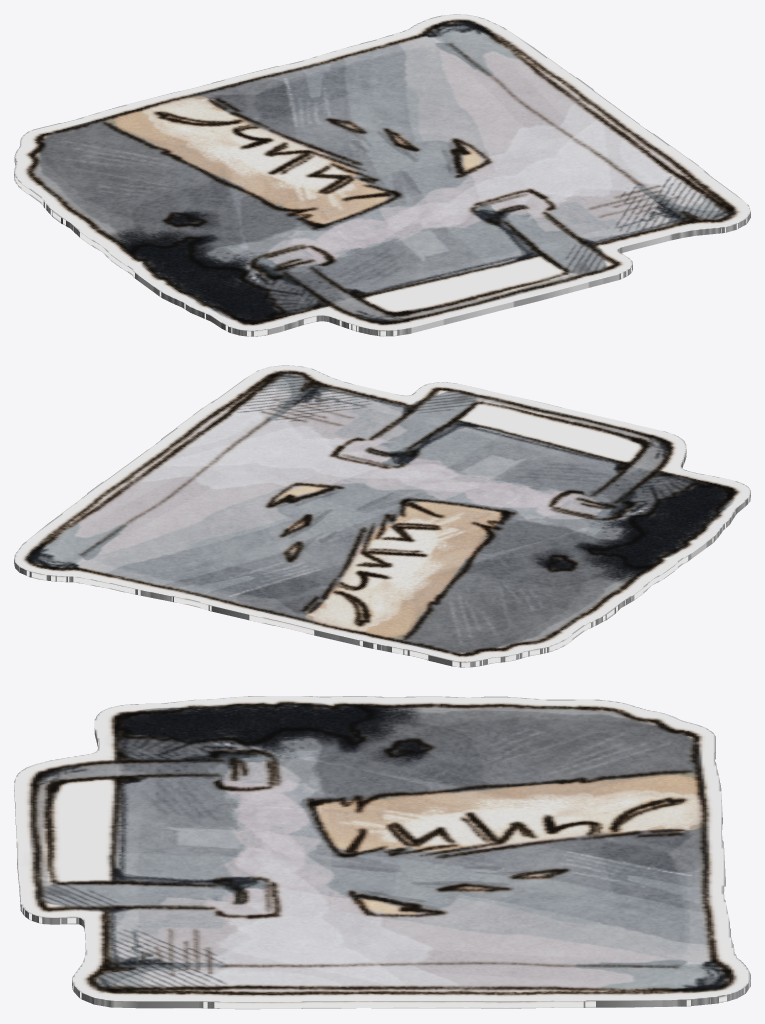
3 renders of one model, top to bottom at view 1: azimuth 30°, elevation 25°; view 2: azimuth 150°, elevation 25°; view 3: azimuth 270°, elevation 25°, orthographic. The views are drawn at different scales.
Parts seen in each view (by area): view 1: 杯子1; view 2: 杯子1; view 3: 杯子1.
Part boxes in pixels (x1,y1,x2,y2): 杯子1: [14, 14, 750, 336]; 杯子1: [14, 365, 750, 667]; 杯子1: [14, 696, 750, 1009].
Size of the model in its own units: 206 by 2.1 by 209.
Materials: 1 (1 with a texture image).
